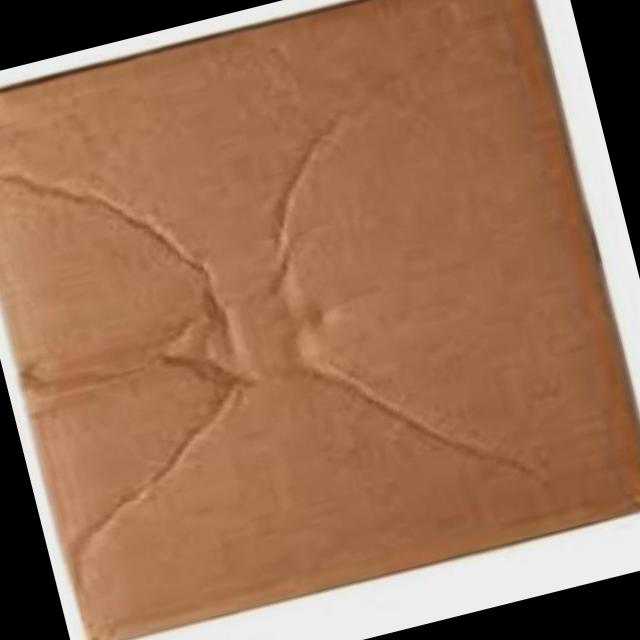box: (0, 0, 640, 640)
crushed: (149, 212, 367, 412)
